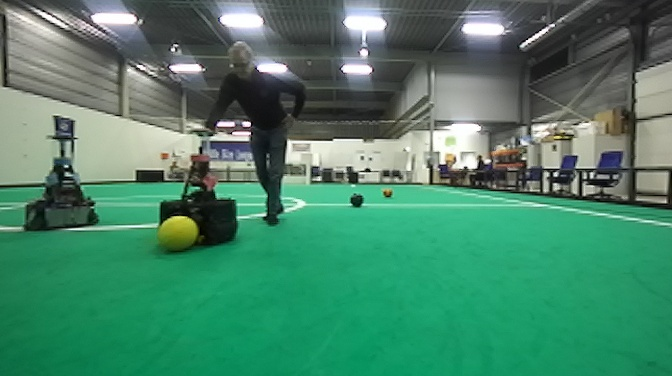ball: (157, 215, 201, 256), (349, 191, 367, 208), (380, 186, 394, 199), (305, 162, 312, 187)
human: (192, 42, 307, 228)
robot: (153, 127, 240, 251), (21, 113, 101, 235)
